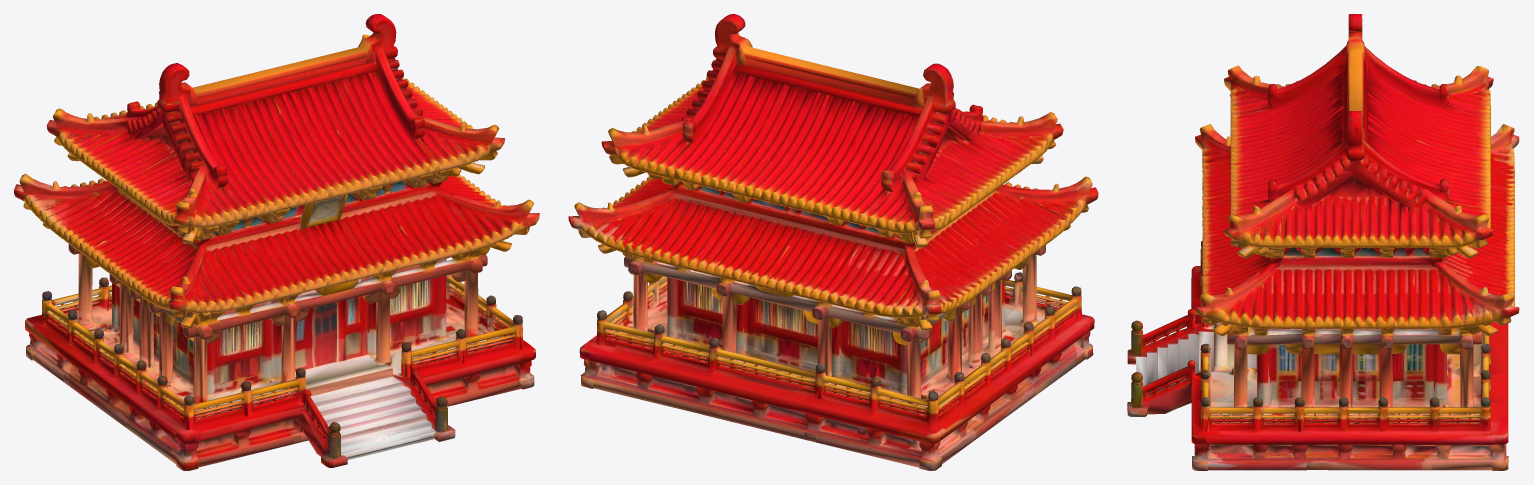
3 views of the same model, side by side, from view 1: azimuth 30°, elevation 25°; view 2: azimuth 150°, elevation 25°; view 3: azimuth 270°, elevation 25° (orthographic). The views are drawn at different scales.
Visible parts, largest first — view 1: Untitled_6; view 2: Untitled_6; view 3: Untitled_6.
Boxes of the visible parts, x1,y1,x2,y2 form: Untitled_6: (14,14,539,470); Untitled_6: (568,14,1098,470); Untitled_6: (1127,14,1519,470).
Size of the model in its own units: 2 by 1.69 by 1.86.
Materials: 1 (1 with a texture image).
